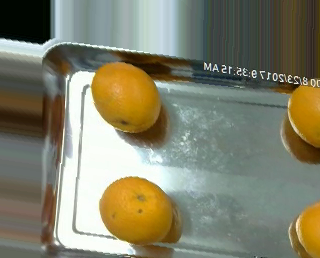Orange: (92, 61, 162, 134), (100, 175, 173, 245)
